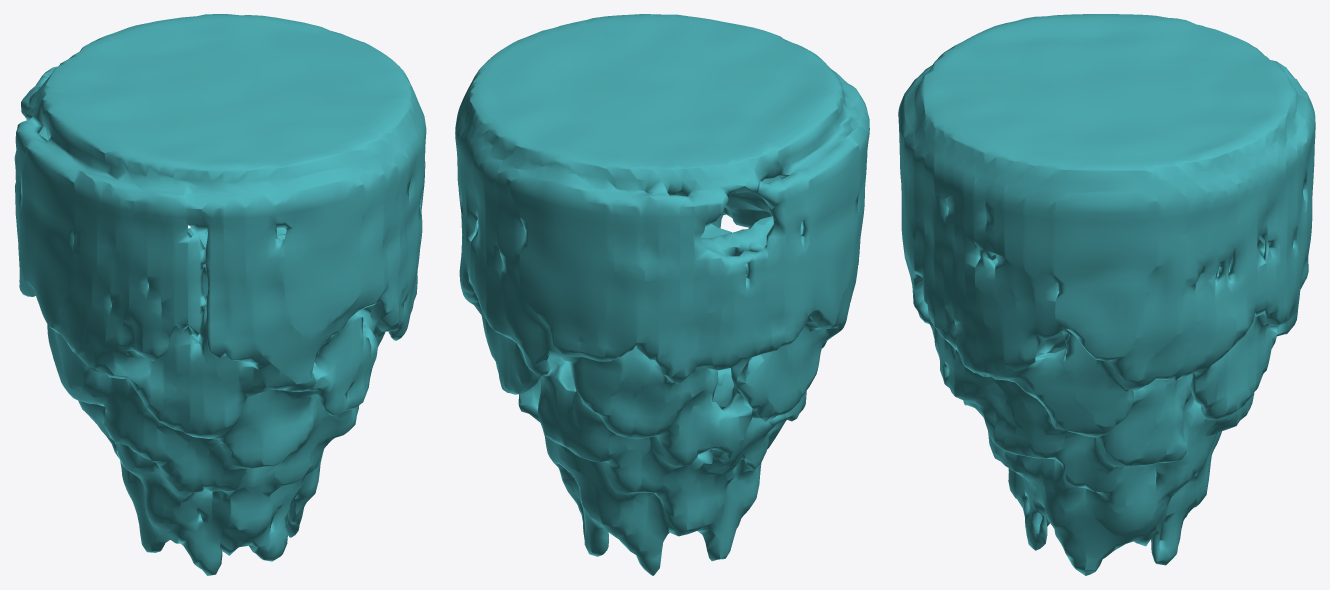
Rendered from lamp_7_5.obj.
The picture shows the model from 3 angles, left to right: view 1: azimuth 30°, elevation 25°; view 2: azimuth 150°, elevation 25°; view 3: azimuth 270°, elevation 25°; orthographic projection.
Size of the model in its own units: 0.6475 by 0.7922 by 0.6484.
